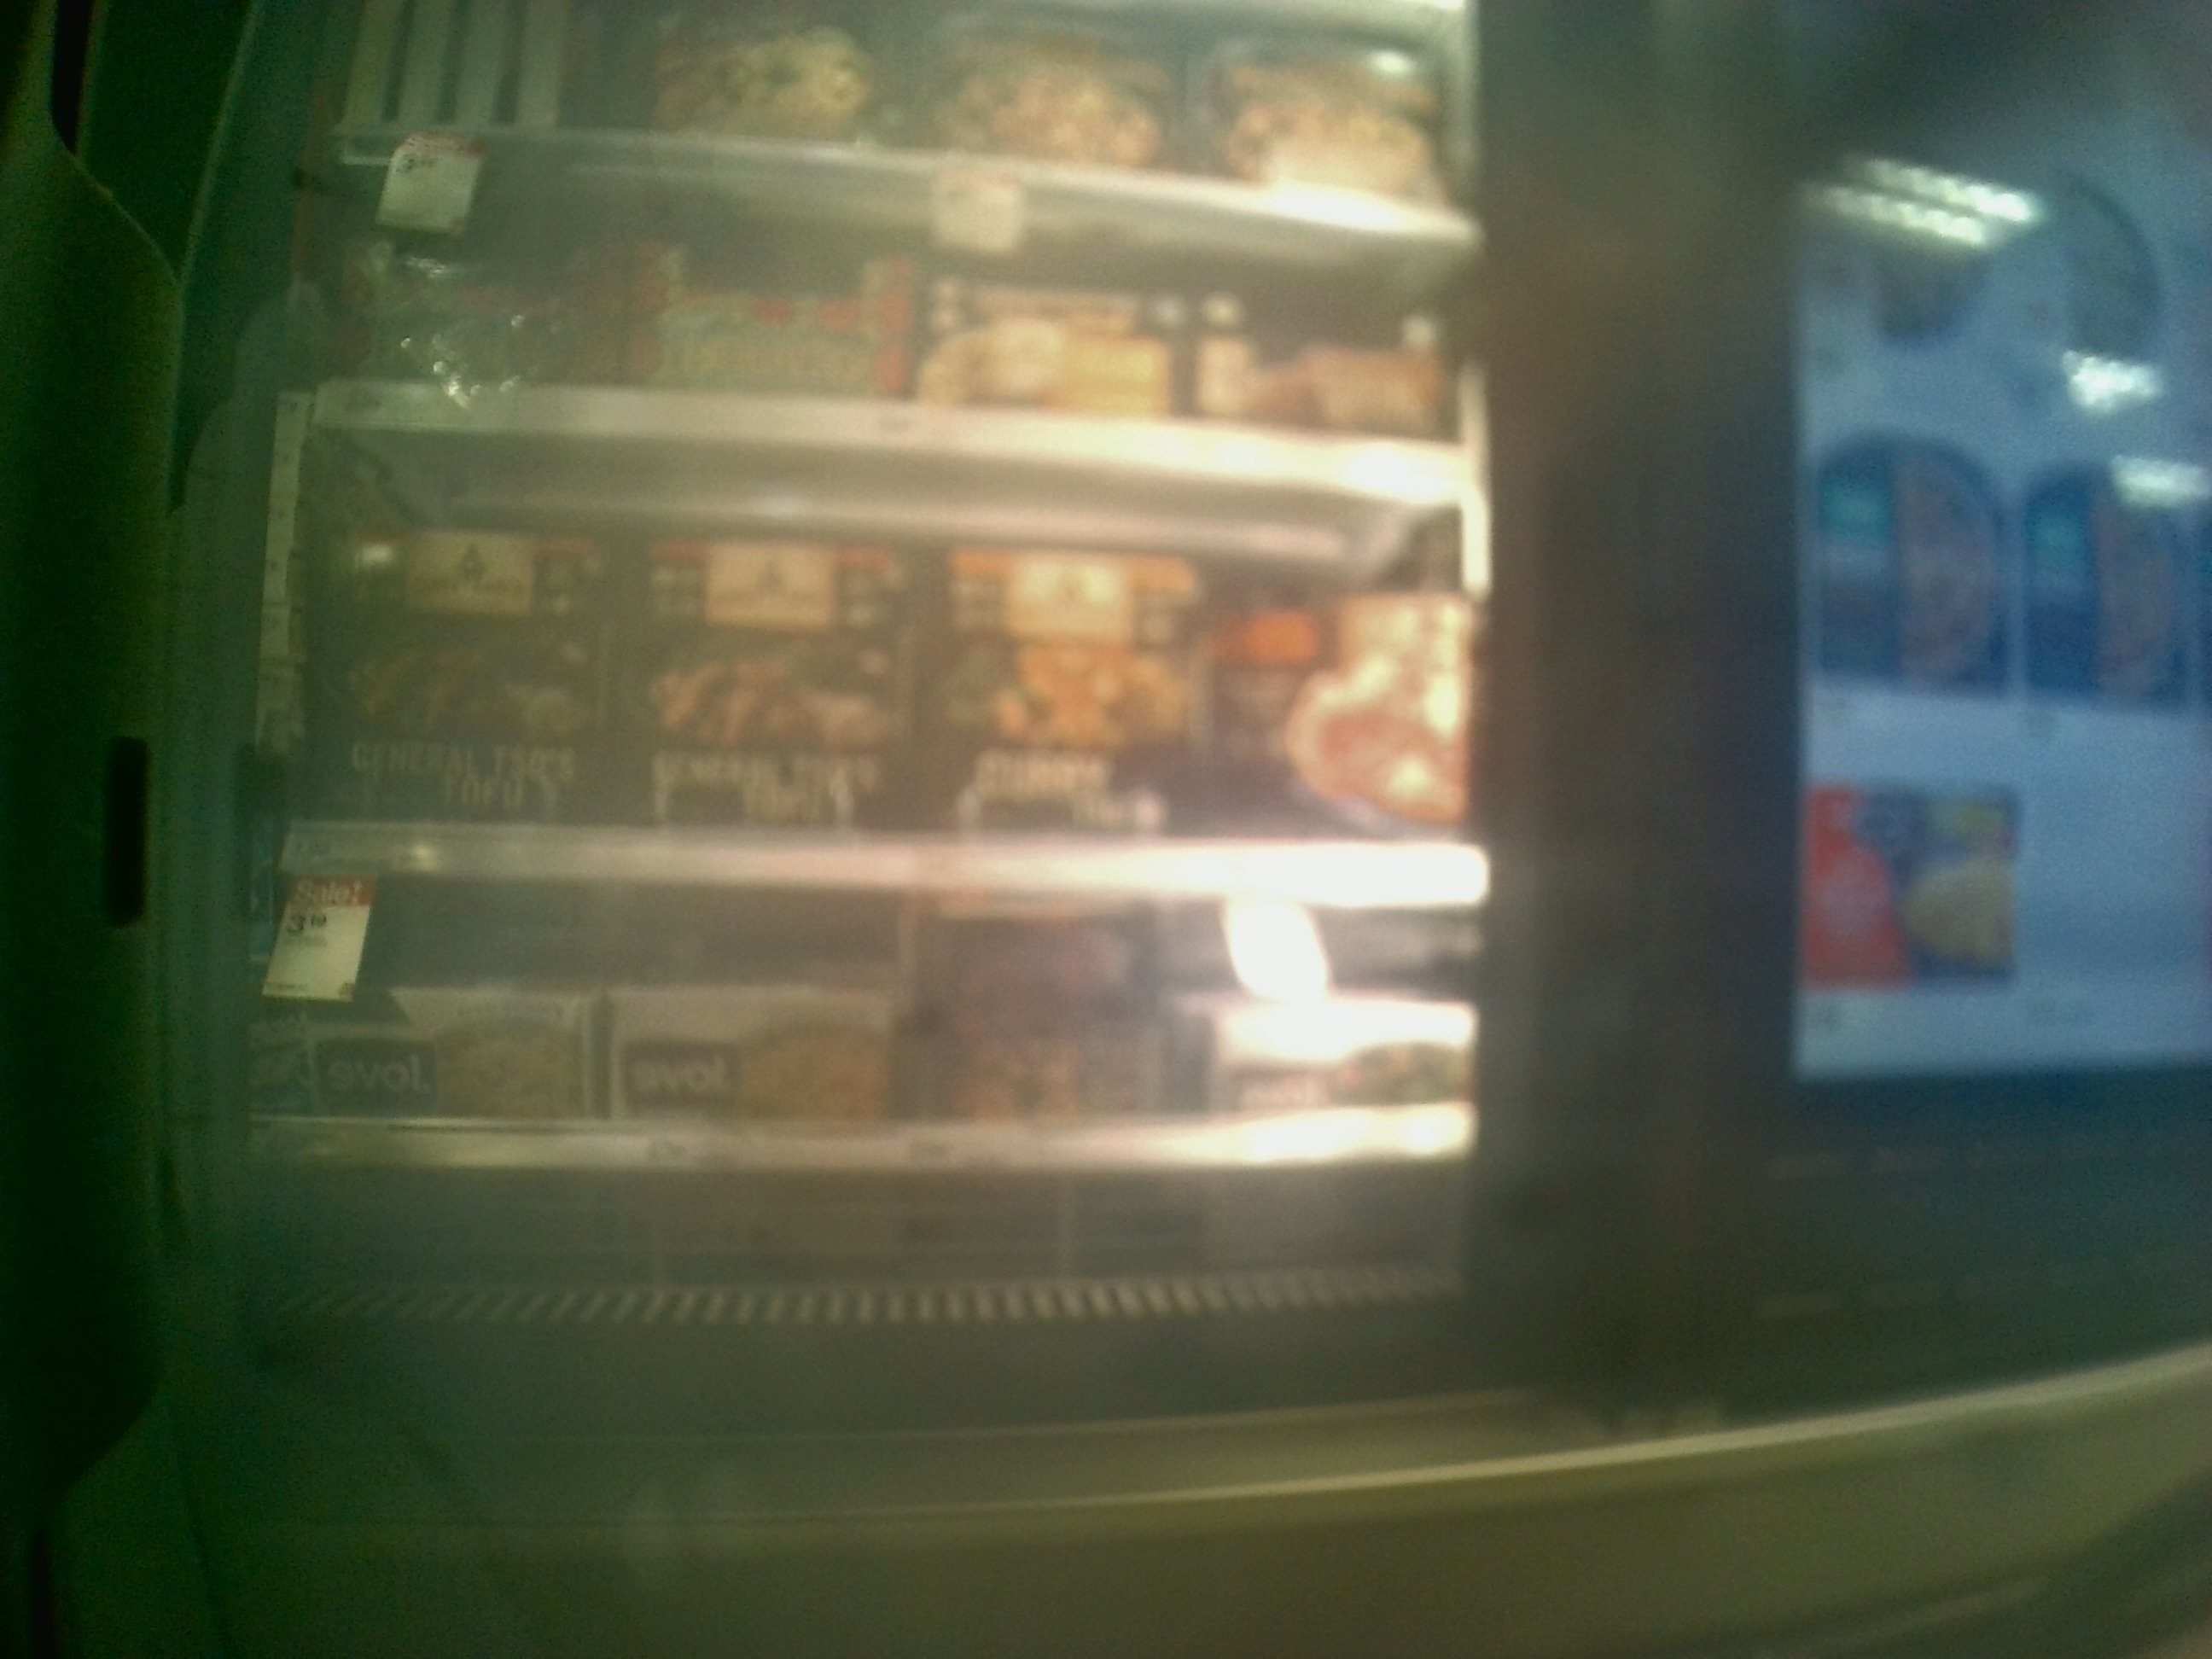frozen-food-shelf: (265, 486, 1486, 903), (233, 899, 1493, 1194)
